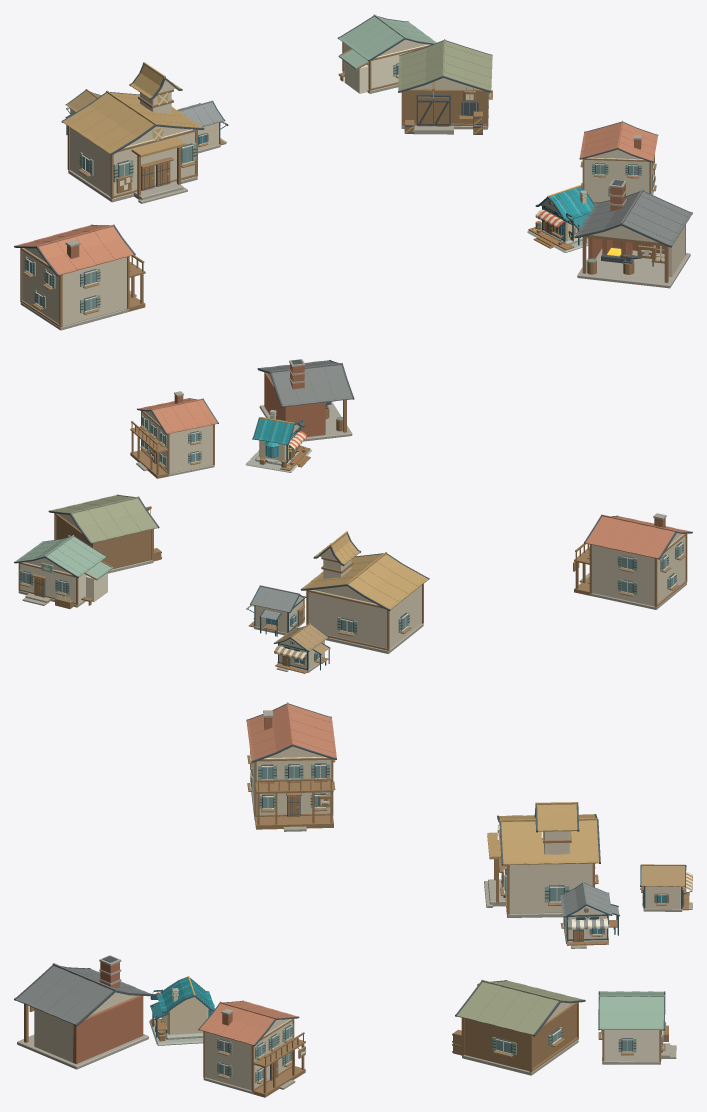
File: 06_Civic.glb
3 renders of one model, top to bottom at view 1: azimuth 30°, elevation 25°; view 2: azimuth 150°, elevation 25°; view 3: azimuth 270°, elevation 25°, orthographic. The views are drawn at different scales.
Visible parts, largest first — view 1: Guild hall on market approach_044.001, Long harbor inn_045.001, Iron and brick waterfront forge_048.001, Civic storage hall_047.001, Dockside tavern_052.001, Infirmary beside inland spine_046.001, Original coastal outfitters_051, AC_Craft_Workshop_050, Iron and brick waterfront forge_048, Civic storage hall_047; view 2: Guild hall on market approach_044.001, Long harbor inn_045.001, Dockside tavern_052.001, Iron and brick waterfront forge_048.001, Civic storage hall_047.001, Infirmary beside inland spine_046.001, Original coastal outfitters_051, AC_Craft_Workshop_050, AC_Market_Bakery_049; view 3: Guild hall on market approach_044.001, Iron and brick waterfront forge_048.001, Long harbor inn_045.001, Civic storage hall_047.001, Dockside tavern_052.001, Infirmary beside inland spine_046.001, Original coastal outfitters_051, AC_Craft_Workshop_050, AC_Market_Bakery_049.
Boxes of the visible parts, x1,y1,x2,y2 form: Guild hall on market approach_044.001: [61, 62, 204, 203]; Long harbor inn_045.001: [14, 224, 145, 330]; Iron and brick waterfront forge_048.001: [575, 179, 692, 288]; Civic storage hall_047.001: [398, 39, 492, 134]; Dockside tavern_052.001: [579, 120, 658, 204]; Infirmary beside inland spine_046.001: [337, 14, 436, 93]; Original coastal outfitters_051: [527, 185, 594, 252]; AC_Craft_Workshop_050: [177, 100, 228, 153]; Iron and brick waterfront forge_048: [587, 243, 664, 274]; Civic storage hall_047: [404, 87, 482, 134]; Guild hall on market approach_044.001: [300, 531, 429, 653]; Long harbor inn_045.001: [574, 513, 692, 609]; Dockside tavern_052.001: [130, 391, 218, 478]; Iron and brick waterfront forge_048.001: [257, 359, 354, 441]; Civic storage hall_047.001: [48, 494, 159, 573]; Infirmary beside inland spine_046.001: [14, 535, 113, 607]; Original coastal outfitters_051: [245, 409, 312, 472]; AC_Craft_Workshop_050: [246, 585, 306, 636]; AC_Market_Bakery_049: [273, 623, 330, 673]; Guild hall on market approach_044.001: [484, 802, 600, 917]; Iron and brick waterfront forge_048.001: [14, 955, 151, 1069]; Long harbor inn_045.001: [246, 702, 336, 831]; Civic storage hall_047.001: [455, 979, 585, 1075]; Dockside tavern_052.001: [198, 1000, 305, 1097]; Infirmary beside inland spine_046.001: [598, 991, 676, 1064]; Original coastal outfitters_051: [149, 976, 214, 1045]; AC_Craft_Workshop_050: [560, 881, 619, 948]; AC_Market_Bakery_049: [640, 864, 692, 911].
Size of the model in its own units: 63.2 by 9.72 by 57.
